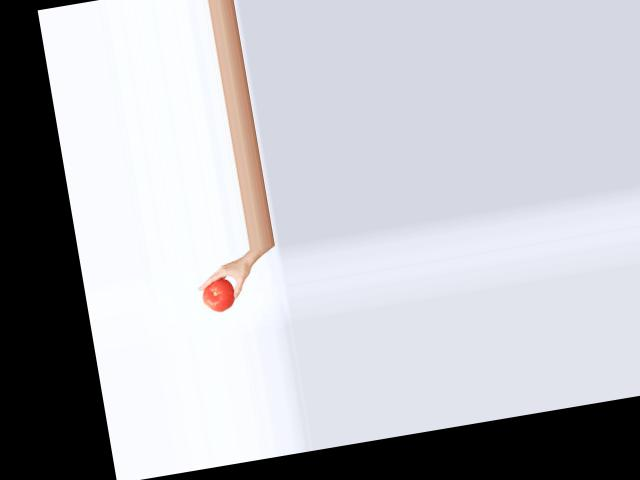tomato: (199, 277, 236, 314)
